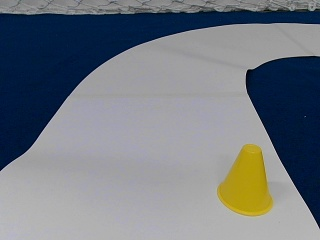cone: (217, 146, 273, 214)
